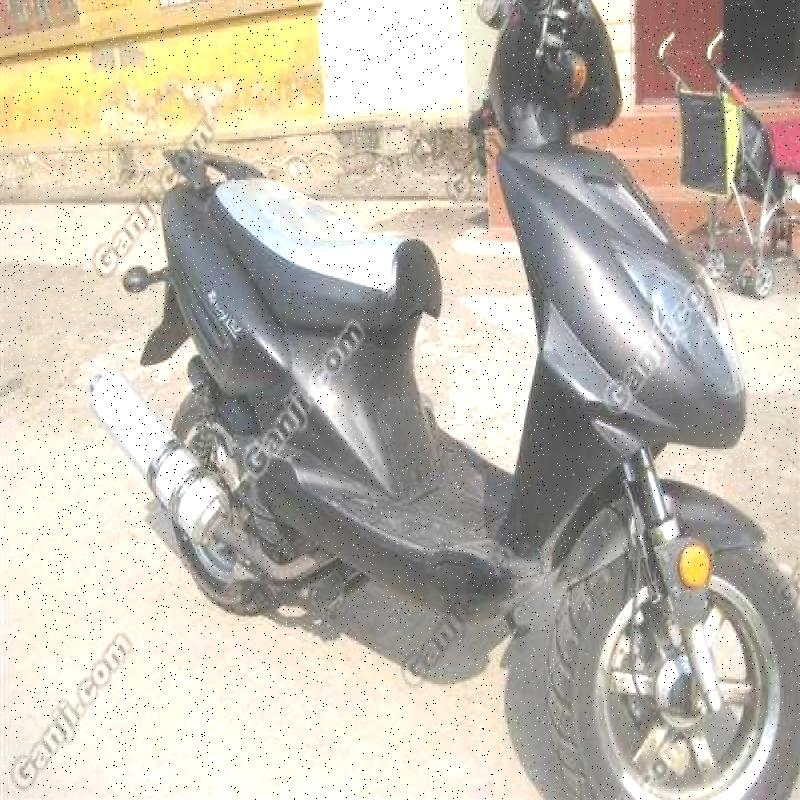bike: (101, 43, 800, 800)
